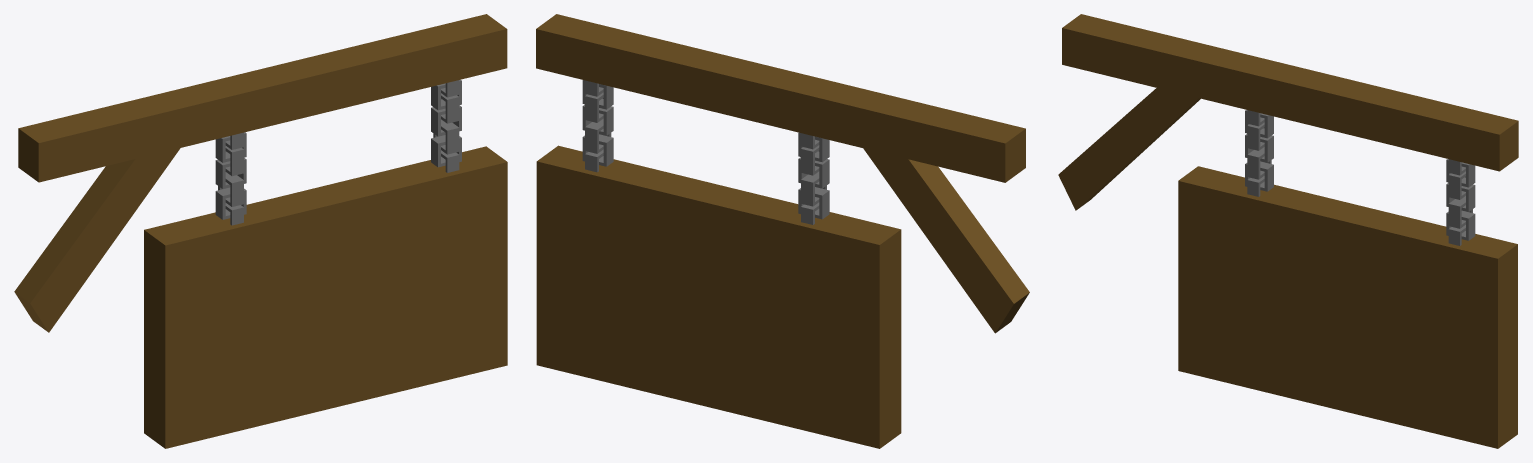
File: mesh_sign.fbx
3 renders of one model, left to right at view 1: azimuth 30°, elevation 25°; view 2: azimuth 150°, elevation 25°; view 3: azimuth 330°, elevation 25°, orthographic. The views are drawn at different scales.
Visible parts, largest first — view 1: sign; view 2: sign; view 3: sign.
Part boxes in pixels (<box>): sign: <box>14,14,507,448</box>; sign: <box>536,14,1029,448</box>; sign: <box>1058,14,1518,448</box>.
Size of the model in its own units: 125 by 84.63 by 9.88.
Materials: 1 (1 with a texture image).
